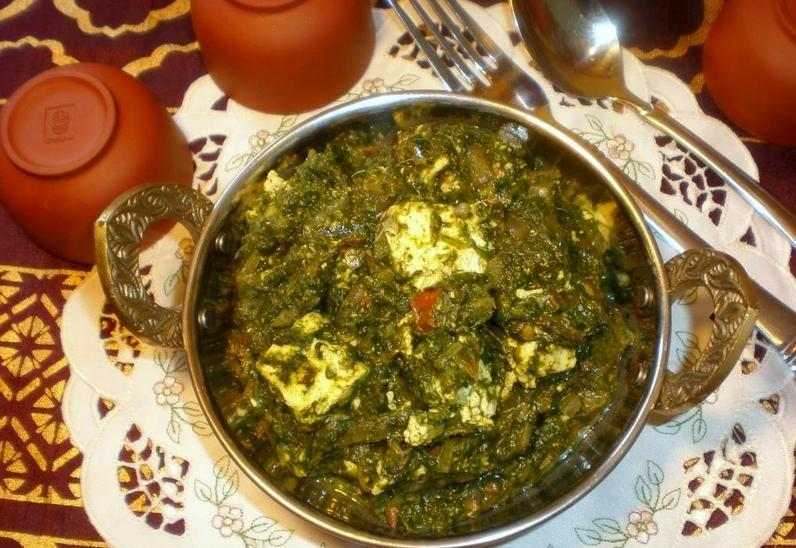PalakPaneer: (209, 120, 639, 528)
